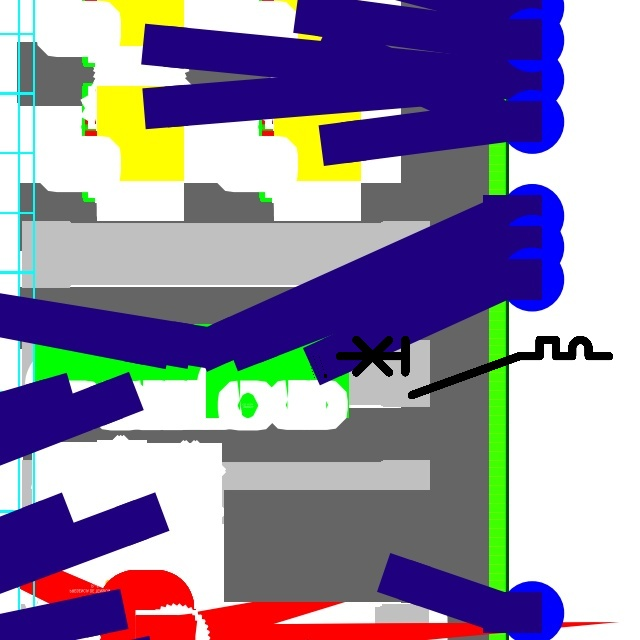interruptor_termomagnetico: (333, 333, 616, 402)
